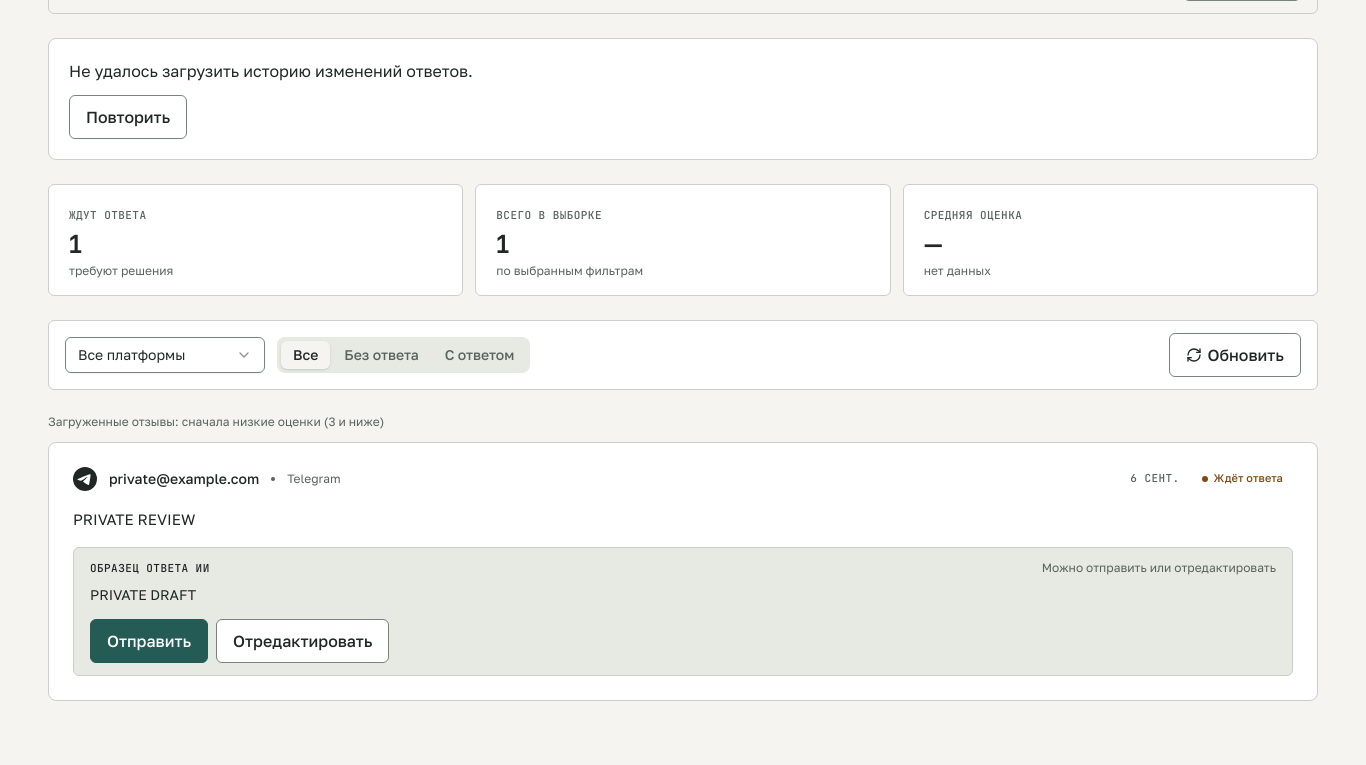
Test case: review approval telemetry › records review impressions without duplicating server-owned edit_saved
(page scrolled)
Expected: the text "PRIVATE DRAFT" is shown, [90, 586, 196, 603]
Click the button "Отредактировать".
click(303, 641)  # box [216, 619, 390, 663]
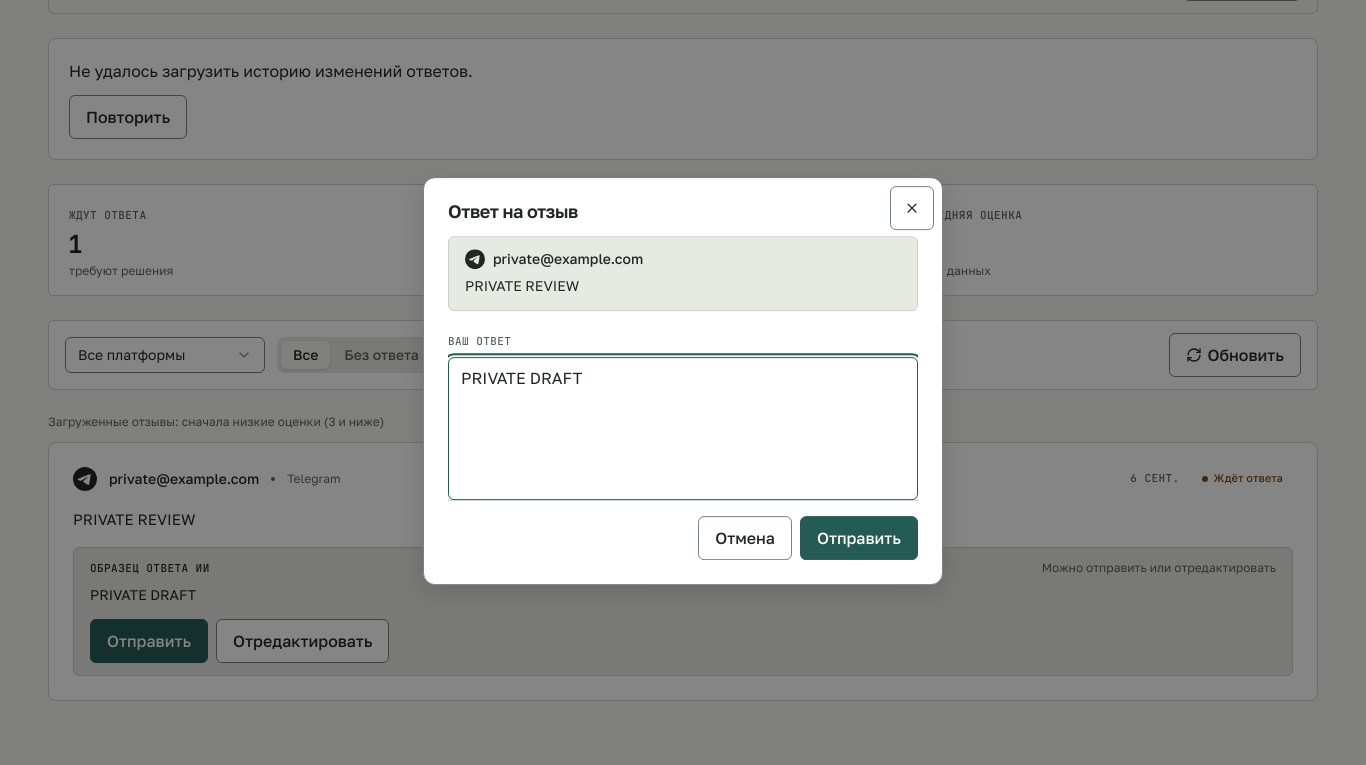
Replace the text in the text box with "PRIVATE EDIT private@example.com" at (683,428), box [448, 357, 918, 500]
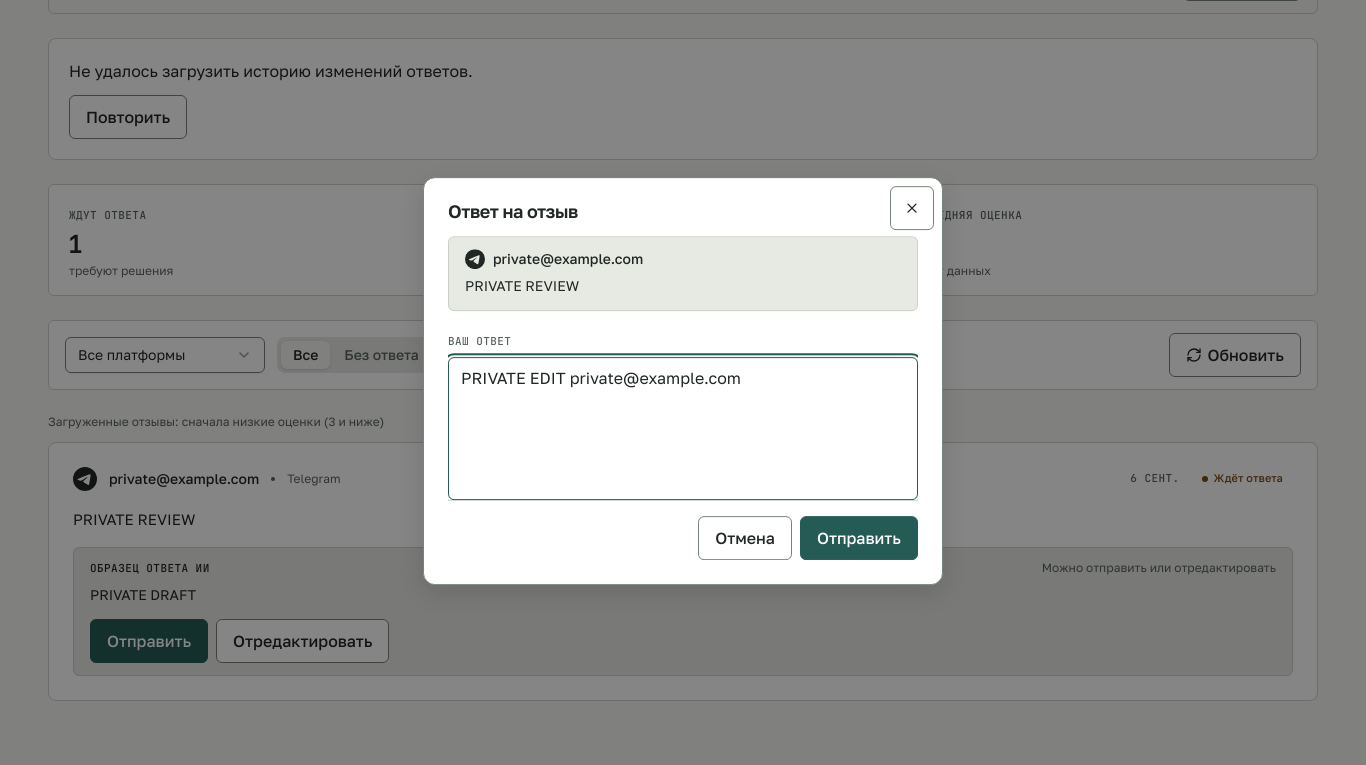
Click the button "Отправить".
click(859, 538)  # box [800, 516, 918, 560]
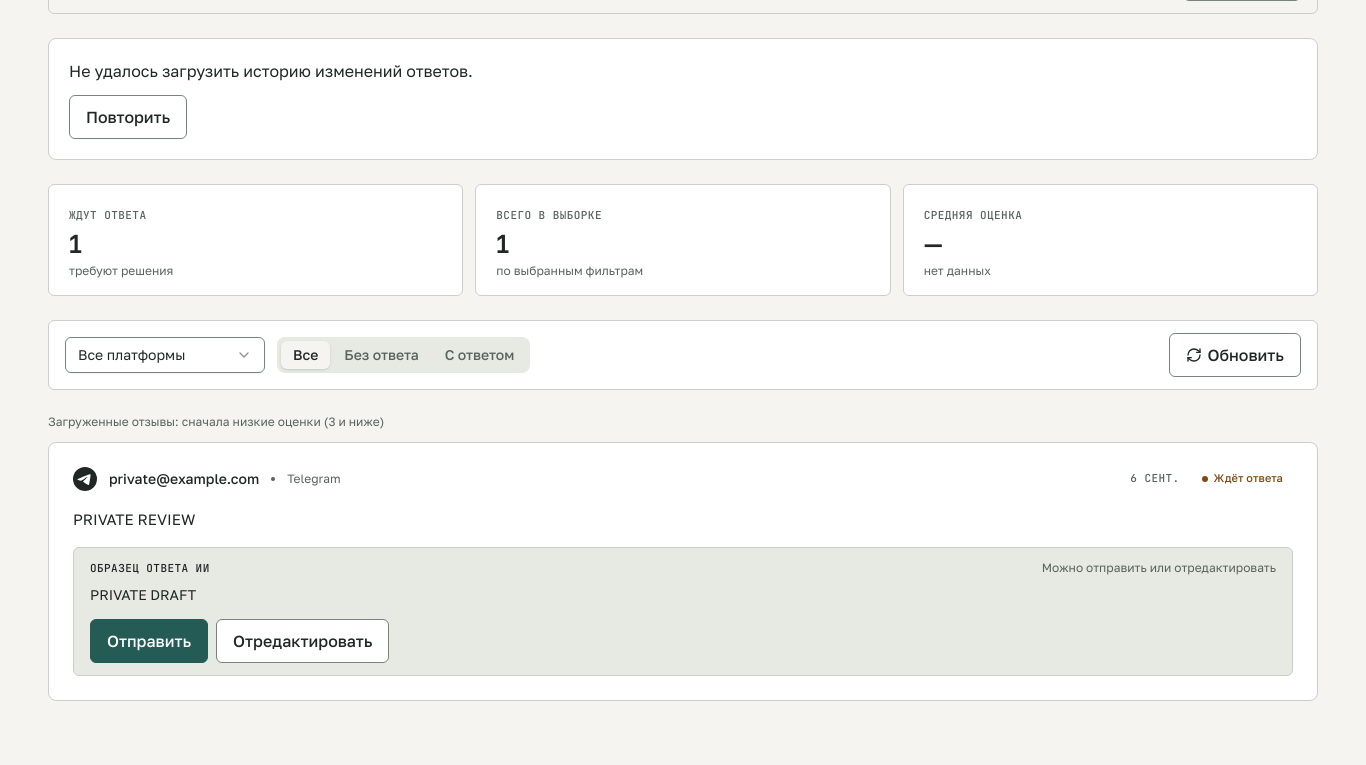
Expected: the dialog is gone
